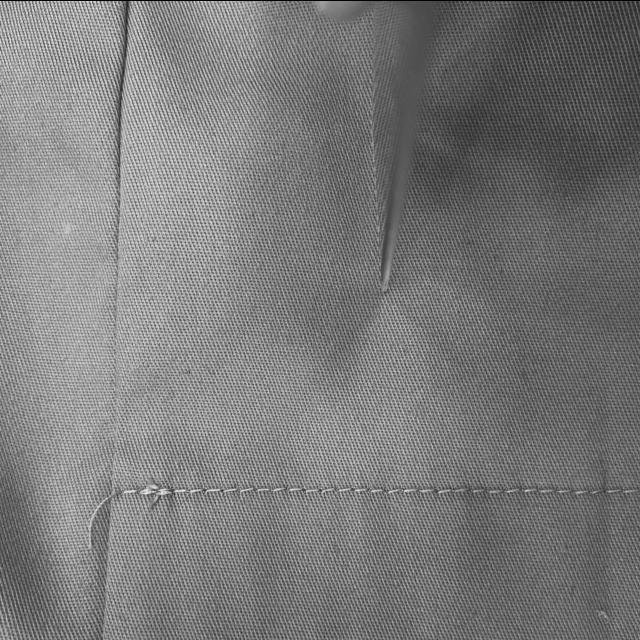stitch: (520, 485, 542, 493), (488, 485, 509, 493), (155, 487, 176, 495), (504, 487, 524, 495), (140, 487, 158, 495), (270, 485, 290, 492), (188, 487, 210, 493), (539, 487, 560, 493), (434, 487, 454, 493), (320, 487, 335, 495), (470, 487, 489, 493), (452, 487, 471, 493), (419, 487, 438, 493), (402, 487, 421, 493), (236, 487, 255, 493), (220, 487, 239, 493), (386, 487, 404, 493), (302, 487, 320, 493), (570, 488, 590, 493), (558, 487, 574, 493), (370, 487, 386, 493), (205, 487, 221, 493), (174, 487, 190, 493), (621, 488, 640, 493), (590, 487, 605, 493), (605, 488, 622, 493), (122, 488, 139, 493), (351, 487, 371, 491), (289, 487, 304, 492), (256, 487, 271, 492), (338, 487, 352, 492)
